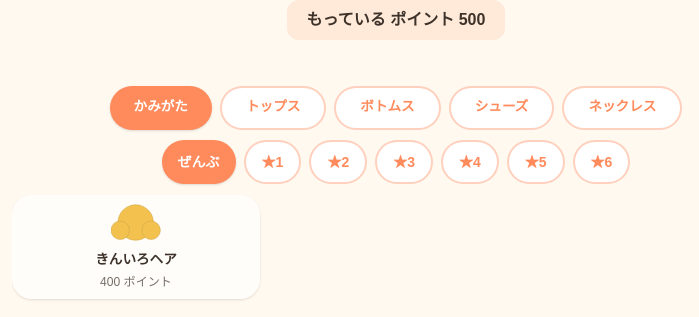
shows a helper message when no item matches the selected tier
Click the button "★6": point(602, 162) top-left (573, 140), bottom-right (630, 184)
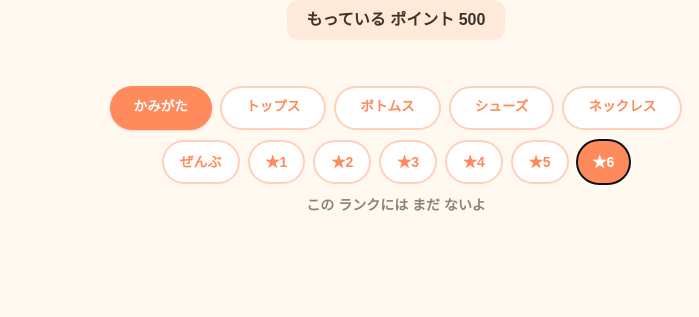
Expected: the text "この ランクには まだ ないよ" is shown, top-left (306, 197), bottom-right (486, 213)
